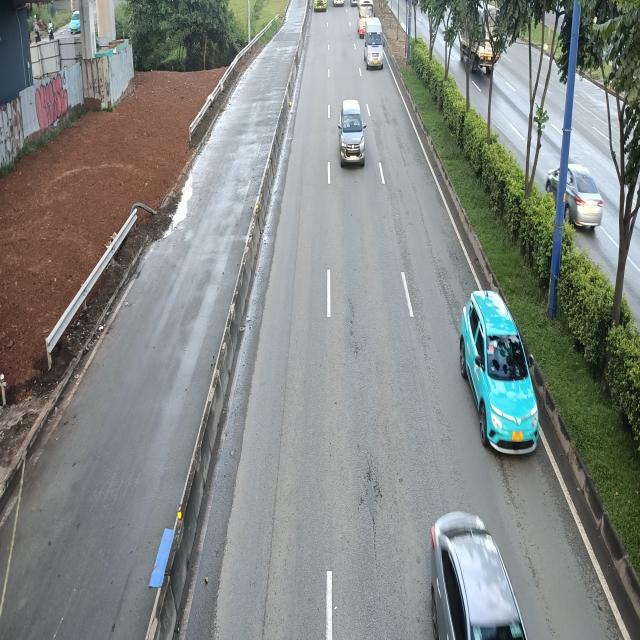car: (459, 288, 539, 456), (338, 100, 367, 167)
van: (364, 16, 386, 68)
